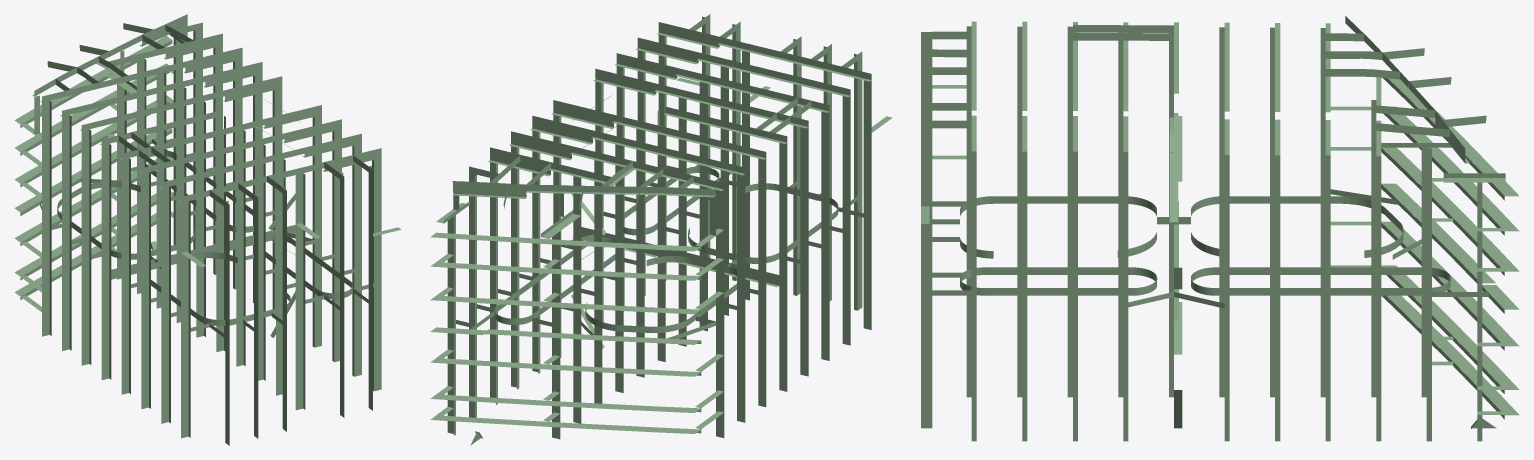
Rendered from DIST_WATER_STOR_TK_PS.glb.
3 views of the same model, side by side, from view 1: azimuth 30°, elevation 25°; view 2: azimuth 150°, elevation 25°; view 3: azimuth 270°, elevation 25° (orthographic). The views are drawn at different scales.
Visible parts, largest first — view 1: ST_SideTransxFR6PxWeb_008001-IA_200x90x9x14_NVA_1993, ST_SideTransxFR6PxWeb_009001-IA_200x90x9x14_NVA_1993, ST_SideTransxFR6PxWeb_006001-IA_200x90x9x14_NVA_1993, ST_SideTransxFR6PxWeb_007001-IA_200x90x9x14_NVA_1993, ST_SideTransxFR10PxWeb_014001-IA_200x90x9x14_NVA_1993, ST_SideTransxFR10PxWeb_024001-IA_200x90x9x14_NVA_1993, ST_No8LBHDxAPTPxWeb_006001-IA_200x90x9x14_NVA_1993, ST_SideTransxFR6PxWeb_003001-IA_200x90x9x14_NVA_1993, ST_SideTransxFR6PxWeb_004001-IA_200x90x9x14_NVA_1993, ST_SideTransxFR6PxWeb_005001-IA_200x90x9x14_NVA_1993, ST_SideTransxFR6PxWeb_002001-IA_200x90x9x14_NVA_1993, ST_SideTransBHDxBHD13PxWeb_030001-IA_200x90x9x14_NVA_1993 (+72 smaller); view 2: ST_SideTransxFR6PxWeb_008001-IA_200x90x9x14_NVA_1993, ST_SideTransxFR6PxWeb_009001-IA_200x90x9x14_NVA_1993, ST_SideTransxFR10PxWeb_025001-IA_200x90x9x14_NVA_1993, ST_SideTransxFR10PxWeb_024001-IA_200x90x9x14_NVA_1993, ST_UDxAPTPxDL30xWeb_057005-IA_150x90x12x12_NVA_1993, ST_OuterShellxAPTPxL60A1xWeb_001005-IA_265x90x10x15_NVA32_19, ST_OuterShellxAPTPxL59xWeb_001005-IA_265x90x10x15_NVA32_1993, ST_SideTransxFR6PxWeb_002001-IA_200x90x9x14_NVA_1993, ST_OuterShellxAPTPxL60xWeb_001005-IA_265x90x10x15_NVA32_1993, ST_OuterShellxAPTPxL60A2xWeb_001005-IA_265x90x10x15_NVA32_19, ST_SideTransxFR6PxWeb_003001-IA_200x90x9x14_NVA_1993, ST_SideTransxFR6PxWeb_004001-IA_200x90x9x14_NVA_1993 (+63 smaller); view 3: ST_No8LBHDxAPTPxWeb_006001-IA_200x90x9x14_NVA_1993, ST_OuterShellxAPTPxL59xWeb_001005-IA_265x90x10x15_NVA32_1993, ST_OuterShellxAPTPxL60xWeb_001005-IA_265x90x10x15_NVA32_1993, ST_SideTransxFR10PxFLG_024001-IA_200x90x9x14_NVA_1993, ST_SideTransxFR10PxFLG_025001-IA_200x90x9x14_NVA_1993, ST_OuterShellxAPTPxL56xWeb_001005-IA_265x90x10x15_NVA32_1993, ST_OuterShellxAPTPxL57xWeb_001005-IA_265x90x10x15_NVA32_1993, FP_HG59xAPTP_004001-T_150x19_NVA_1993, ST_OuterShellxAPTPxL60A1xWeb_001005-IA_265x90x10x15_NVA32_19, ST_OuterShellxAPTPxL58xWeb_001005-IA_265x90x10x15_NVA32_1993, FP_HG59xAPTP_008001-T_150x19_NVA_1993, FP_HG59xAPTP_027001-T_150x19_NVA_1993 (+35 smaller).
Boxes of the visible parts, x1=… form: ST_SideTransxFR6PxWeb_008001-IA_200x90x9x14_NVA_1993: x1=62, y1=115, x2=69, y2=296; ST_SideTransxFR6PxWeb_009001-IA_200x90x9x14_NVA_1993: x1=42, y1=100, x2=49, y2=282; ST_SideTransxFR6PxWeb_006001-IA_200x90x9x14_NVA_1993: x1=101, y1=144, x2=109, y2=271; ST_SideTransxFR6PxWeb_007001-IA_200x90x9x14_NVA_1993: x1=81, y1=129, x2=89, y2=257; ST_SideTransxFR10PxWeb_014001-IA_200x90x9x14_NVA_1993: x1=295, y1=173, x2=303, y2=301; ST_SideTransxFR10PxWeb_024001-IA_200x90x9x14_NVA_1993: x1=156, y1=73, x2=164, y2=248; ST_No8LBHDxAPTPxWeb_006001-IA_200x90x9x14_NVA_1993: x1=368, y1=167, x2=372, y2=383; ST_SideTransxFR6PxWeb_003001-IA_200x90x9x14_NVA_1993: x1=161, y1=187, x2=168, y2=315; ST_SideTransxFR6PxWeb_004001-IA_200x90x9x14_NVA_1993: x1=141, y1=172, x2=148, y2=300; ST_SideTransxFR6PxWeb_005001-IA_200x90x9x14_NVA_1993: x1=121, y1=158, x2=128, y2=286; ST_SideTransxFR6PxWeb_002001-IA_200x90x9x14_NVA_1993: x1=181, y1=201, x2=188, y2=329; ST_SideTransBHDxBHD13PxWeb_030001-IA_200x90x9x14_NVA_1993: x1=374, y1=158, x2=381, y2=282; ST_SideTransxFR6PxWeb_008001-IA_200x90x9x14_NVA_1993: x1=737, y1=174, x2=745, y2=365; ST_SideTransxFR6PxWeb_009001-IA_200x90x9x14_NVA_1993: x1=716, y1=189, x2=724, y2=380; ST_SideTransxFR10PxWeb_025001-IA_200x90x9x14_NVA_1993: x1=573, y1=176, x2=581, y2=366; ST_SideTransxFR10PxWeb_024001-IA_200x90x9x14_NVA_1993: x1=594, y1=160, x2=602, y2=350; ST_UDxAPTPxDL30xWeb_057005-IA_150x90x12x12_NVA_1993: x1=526, y1=184, x2=715, y2=195; ST_OuterShellxAPTPxL60A1xWeb_001005-IA_265x90x10x15_NVA32_19: x1=483, y1=265, x2=700, y2=280; ST_OuterShellxAPTPxL59xWeb_001005-IA_265x90x10x15_NVA32_1993: x1=483, y1=329, x2=700, y2=344; ST_SideTransxFR6PxWeb_002001-IA_200x90x9x14_NVA_1993: x1=863, y1=80, x2=871, y2=215; ST_OuterShellxAPTPxL60xWeb_001005-IA_265x90x10x15_NVA32_1993: x1=483, y1=298, x2=700, y2=314; ST_OuterShellxAPTPxL60A2xWeb_001005-IA_265x90x10x15_NVA32_19: x1=483, y1=236, x2=700, y2=251; ST_SideTransxFR6PxWeb_003001-IA_200x90x9x14_NVA_1993: x1=842, y1=96, x2=850, y2=230; ST_SideTransxFR6PxWeb_004001-IA_200x90x9x14_NVA_1993: x1=821, y1=111, x2=829, y2=245; ST_No8LBHDxAPTPxWeb_006001-IA_200x90x9x14_NVA_1993: x1=921, y1=121, x2=932, y2=393; ST_OuterShellxAPTPxL59xWeb_001005-IA_265x90x10x15_NVA32_1993: x1=1381, y1=183, x2=1495, y2=283; ST_OuterShellxAPTPxL60xWeb_001005-IA_265x90x10x15_NVA32_1993: x1=1382, y1=147, x2=1495, y2=246; ST_SideTransxFR10PxFLG_024001-IA_200x90x9x14_NVA_1993: x1=1320, y1=99, x2=1325, y2=328; ST_SideTransxFR10PxFLG_025001-IA_200x90x9x14_NVA_1993: x1=1371, y1=100, x2=1376, y2=328; ST_OuterShellxAPTPxL56xWeb_001005-IA_265x90x10x15_NVA32_1993: x1=1386, y1=295, x2=1495, y2=390; ST_OuterShellxAPTPxL57xWeb_001005-IA_265x90x10x15_NVA32_1993: x1=1381, y1=265, x2=1495, y2=364; FP_HG59xAPTP_004001-T_150x19_NVA_1993: x1=1258, y1=267, x2=1406, y2=274; ST_OuterShellxAPTPxL60A1xWeb_001005-IA_265x90x10x15_NVA32_19: x1=1389, y1=106, x2=1495, y2=206; ST_OuterShellxAPTPxL58xWeb_001005-IA_265x90x10x15_NVA32_1993: x1=1381, y1=221, x2=1495, y2=321; FP_HG59xAPTP_008001-T_150x19_NVA_1993: x1=991, y1=288, x2=1132, y2=295; FP_HG59xAPTP_027001-T_150x19_NVA_1993: x1=991, y1=267, x2=1132, y2=274.
Size of the model in its own units: 5.25 by 6.04 by 10.66.
